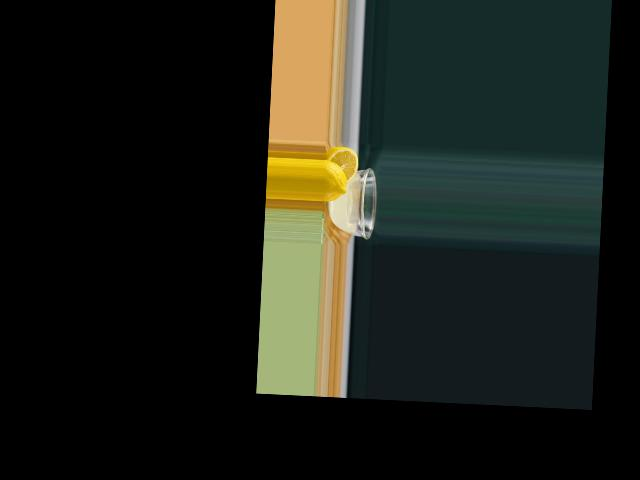lemon: (322, 147, 359, 202)
